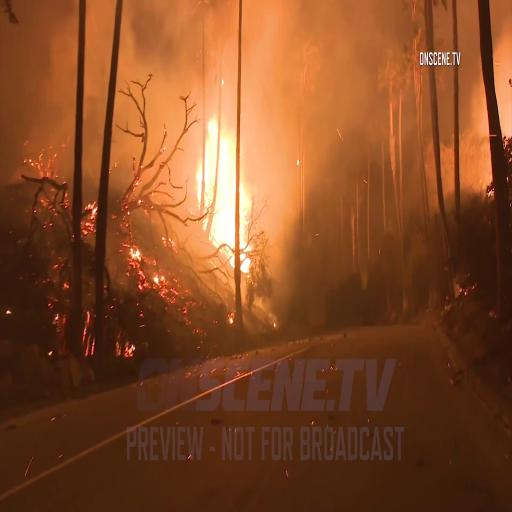fire: (196, 110, 252, 272)
